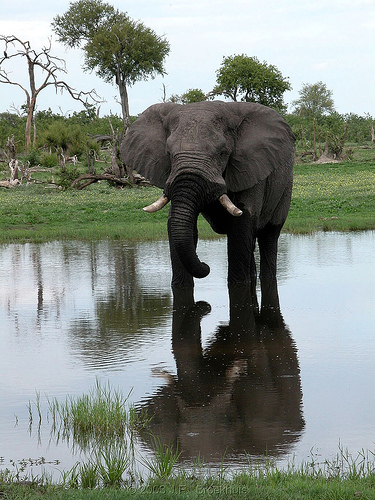elephant: (115, 95, 305, 338)
